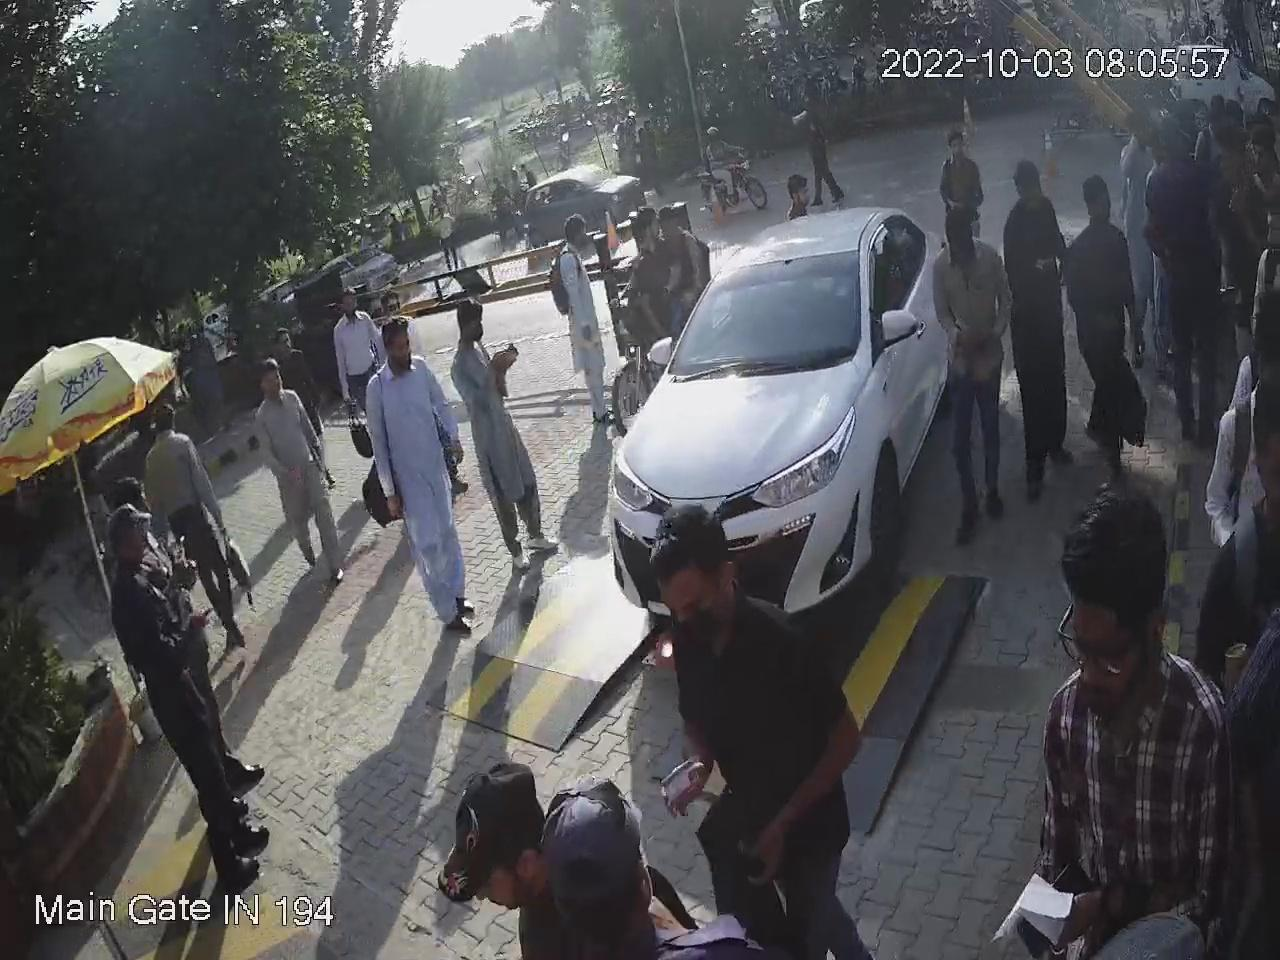windshield: (660, 252, 871, 377)
